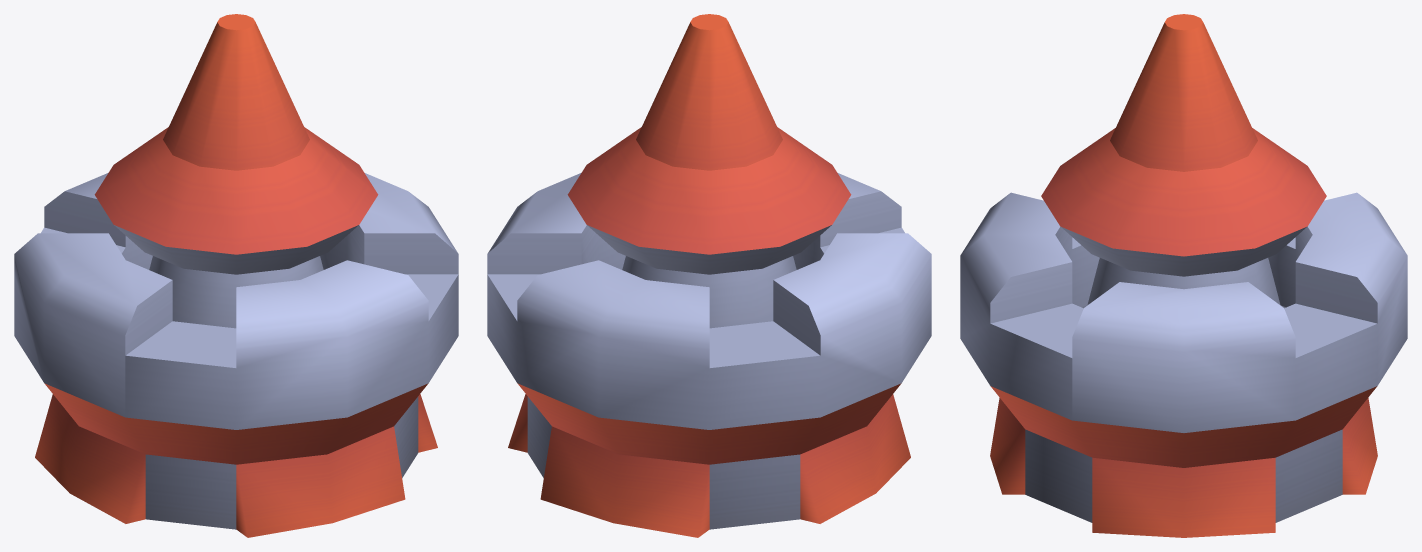
File: tower-round-roof-c.fbx
The picture shows the model from 3 angles, left to right: view 1: azimuth 30°, elevation 25°; view 2: azimuth 150°, elevation 25°; view 3: azimuth 270°, elevation 25°; orthographic projection.
Visible parts, largest first — view 1: tower-round-roof-c; view 2: tower-round-roof-c; view 3: tower-round-roof-c.
Boxes of the visible parts, bbox=[...] form: tower-round-roof-c: bbox=[14, 14, 458, 537]; tower-round-roof-c: bbox=[487, 14, 931, 537]; tower-round-roof-c: bbox=[960, 14, 1407, 537].
Size of the model in its own units: 97.6 by 104 by 97.6.
